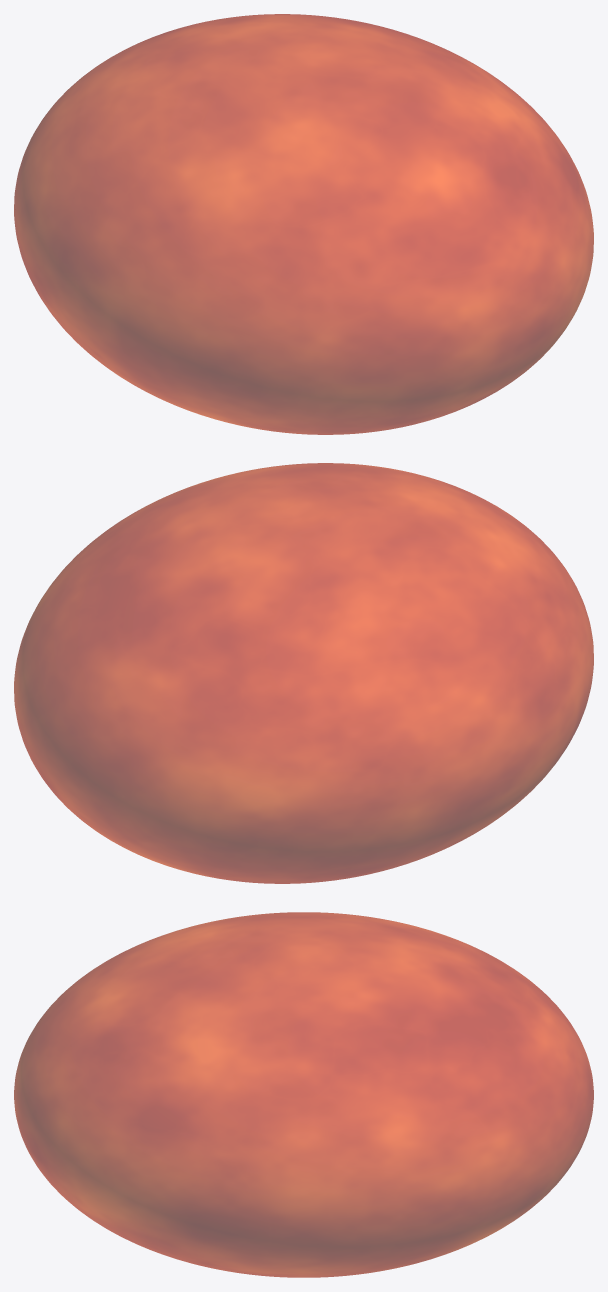
The model's file is carnelian.glb.
3 views of the same model, one above another, from view 1: azimuth 30°, elevation 25°; view 2: azimuth 150°, elevation 25°; view 3: azimuth 270°, elevation 25° (orthographic). The views are drawn at different scales.
Parts seen in each view (by area): view 1: carnelian.001; view 2: carnelian.001; view 3: carnelian.001.
Part boxes in pixels (x1,y1,x2,y2): carnelian.001: [14, 14, 593, 434]; carnelian.001: [14, 463, 593, 883]; carnelian.001: [14, 912, 593, 1277].
Size of the model in its own units: 2.17 by 1.41 by 2.5.
1 material, 1 textured.
